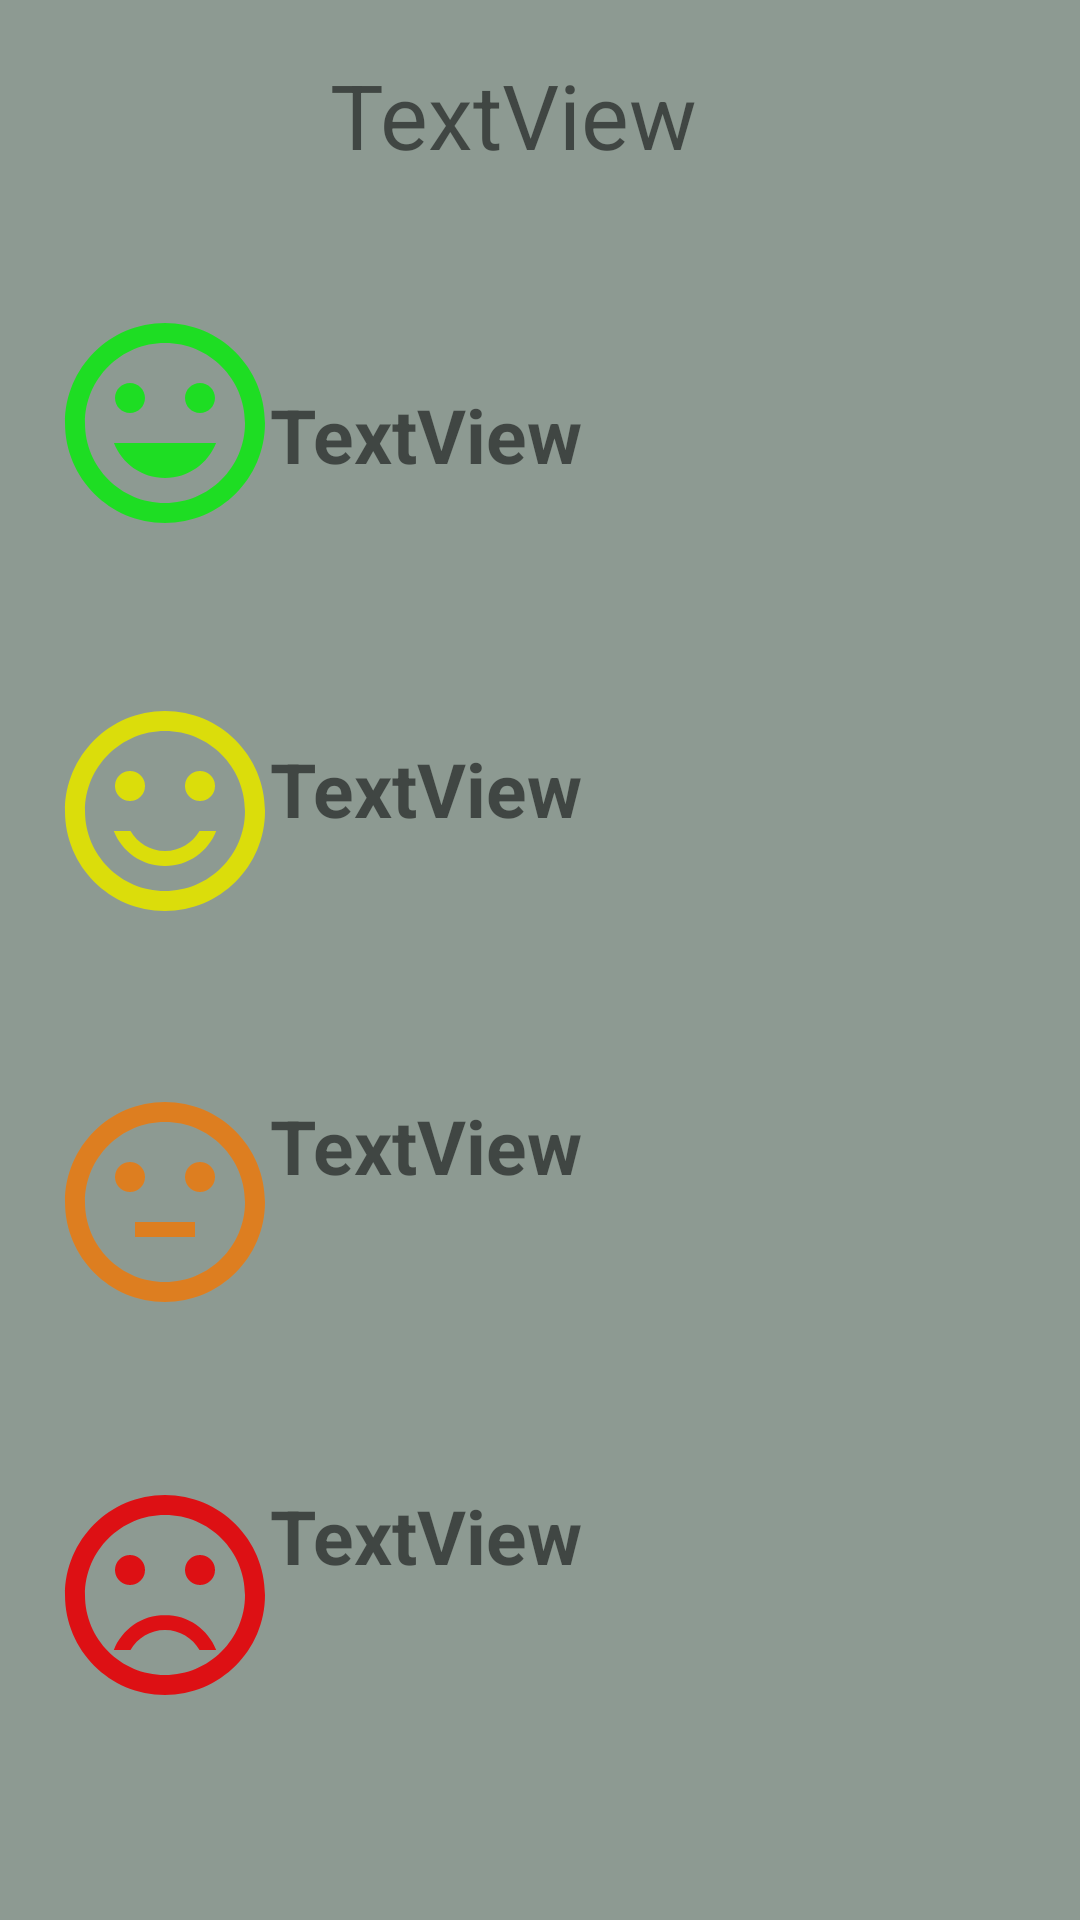

Named icons in this screenshot (1080*1920) and their centers, (x,y):
smiley dissatisfied: (165,1595)
smiley happy: (165,423)
smiley neutral: (165,1202)
smiley satisfied: (165,811)
